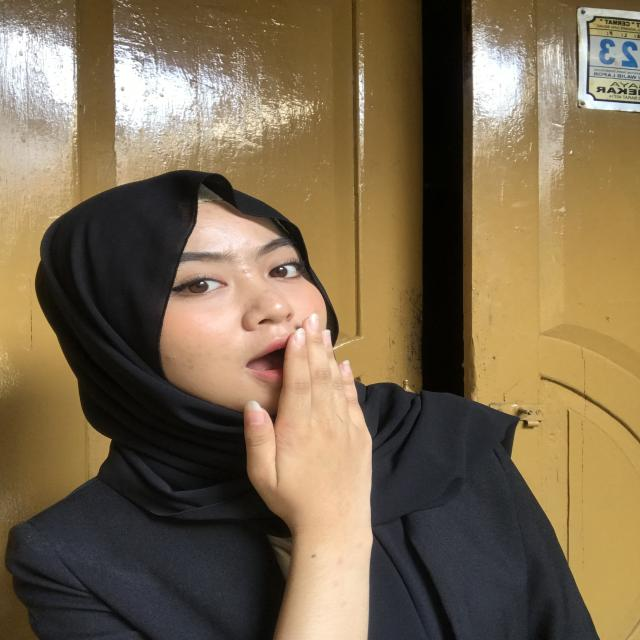ngantuk: (201, 309, 400, 553)
